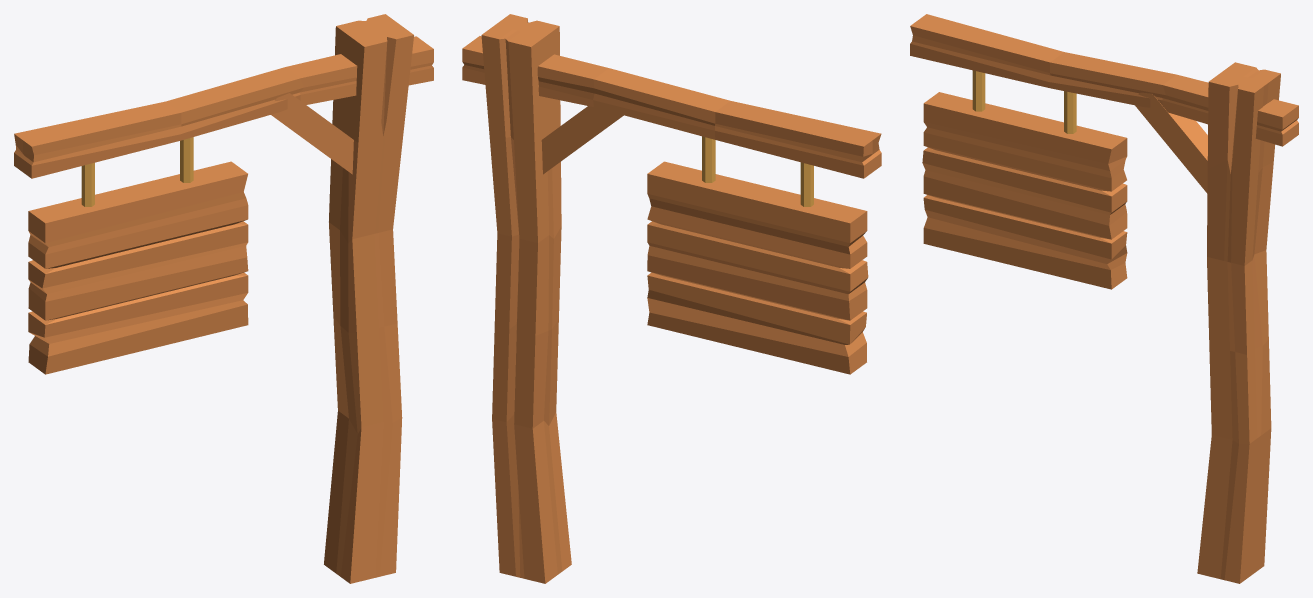
The model's file is Schild.fbx.
The picture shows the model from 3 angles, left to right: view 1: azimuth 30°, elevation 25°; view 2: azimuth 150°, elevation 25°; view 3: azimuth 330°, elevation 25°; orthographic projection. The views are drawn at different scales.
Parts seen in each view (by area): view 1: Schild; view 2: Schild; view 3: Schild.
Part boxes in pixels (box(x1,y1,x2,y2)): Schild: box(14, 14, 433, 583); Schild: box(462, 14, 881, 583); Schild: box(910, 14, 1298, 583).
Size of the model in its own units: 2.54 by 3.22 by 0.3136.
